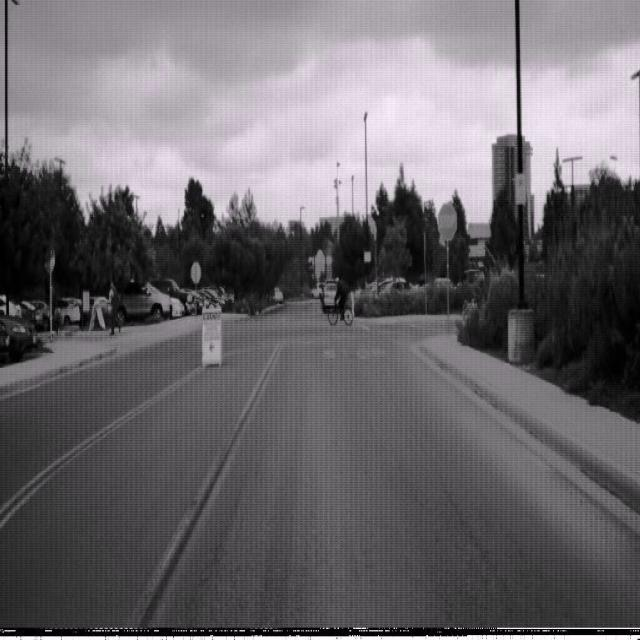stop_sign: (438, 201, 458, 242)
